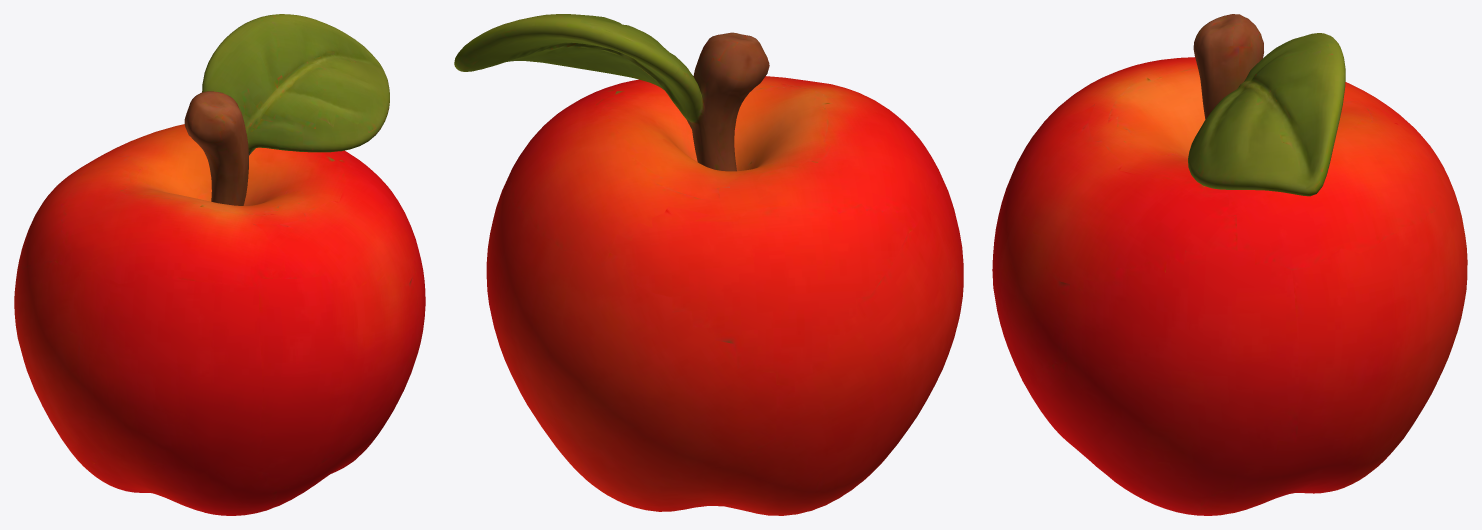
3 views of the same model, side by side, from view 1: azimuth 30°, elevation 25°; view 2: azimuth 150°, elevation 25°; view 3: azimuth 270°, elevation 25° (orthographic). The views are drawn at different scales.
Visible parts, largest first — view 1: apple; view 2: apple; view 3: apple.
Part boxes in pixels (bbox=[...]): apple: bbox=[14, 14, 425, 515]; apple: bbox=[454, 14, 963, 515]; apple: bbox=[992, 14, 1467, 515].
Bounding box in the file's own units: 0.1161 × 0.12 × 0.1092.
1 material, 1 textured.
